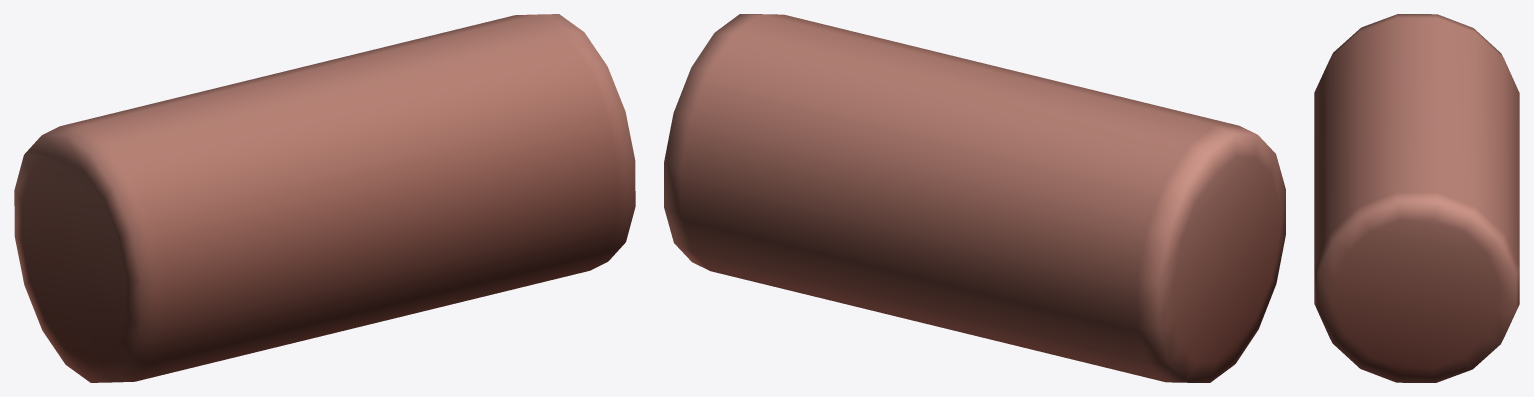
The model's file is Forest_CillinderSmall.fbx.
3 renders of one model, left to right at view 1: azimuth 30°, elevation 25°; view 2: azimuth 150°, elevation 25°; view 3: azimuth 270°, elevation 25°, orthographic. The views are drawn at different scales.
Visible parts, largest first — view 1: Cylinder.051; view 2: Cylinder.051; view 3: Cylinder.051.
Part boxes in pixels (x1,y1,x2,y2): Cylinder.051: (14, 14, 635, 382); Cylinder.051: (664, 14, 1285, 382); Cylinder.051: (1314, 14, 1519, 382).
Size of the model in its own units: 248 by 112 by 112.
